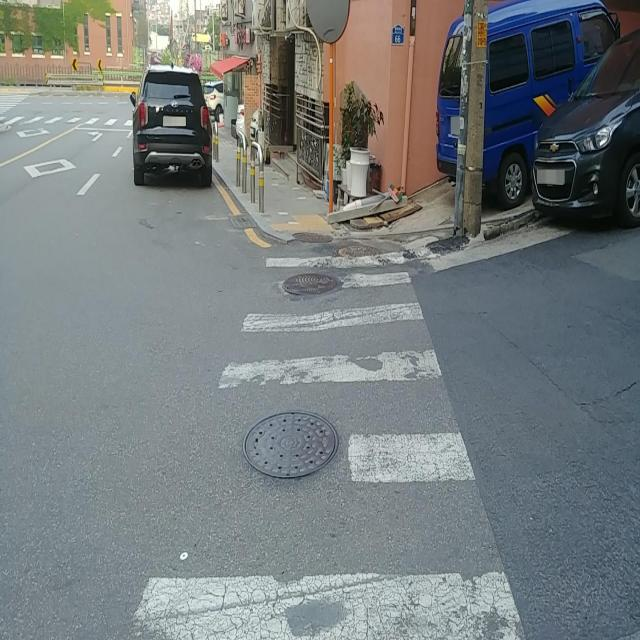횡단보도: (126, 250, 526, 640), (8, 111, 129, 133)
